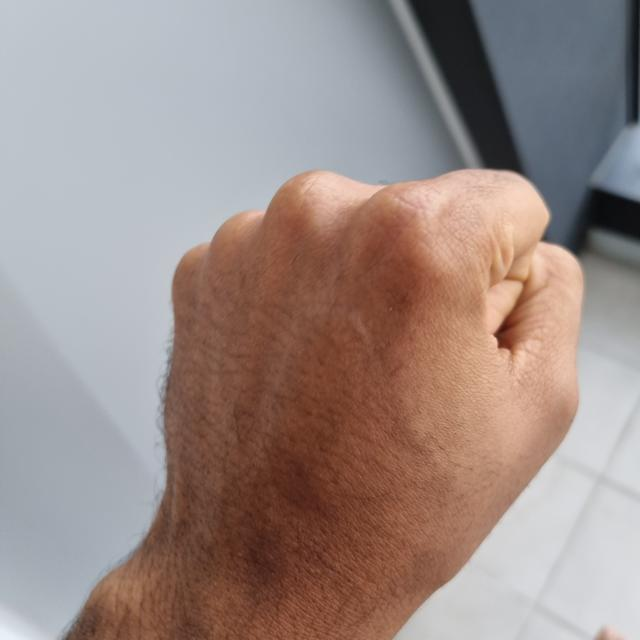Rock: (157, 167, 587, 637)
